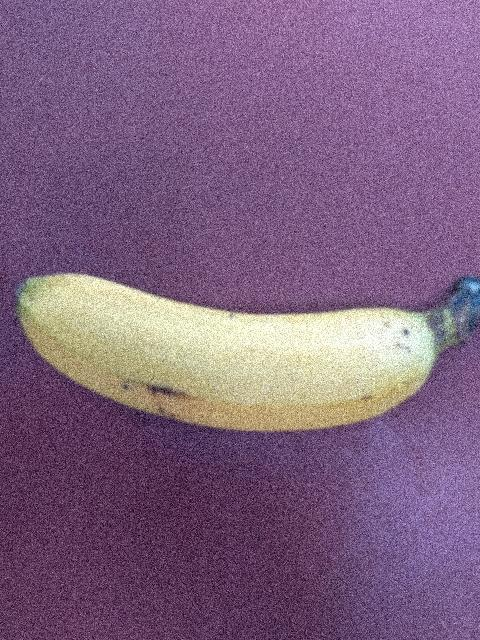freshripe: (34, 260, 479, 481)
